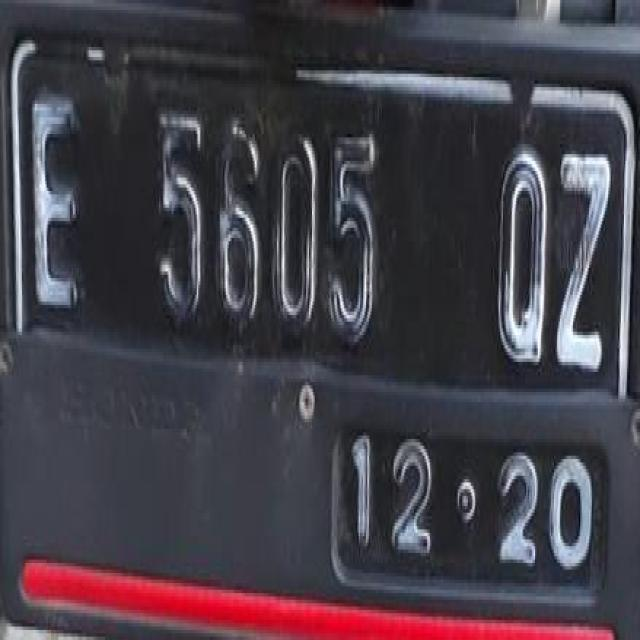0: (267, 99, 323, 347)
5: (323, 97, 386, 359), (147, 82, 203, 347)
6: (210, 97, 267, 352)
E: (24, 76, 90, 318)
Q: (491, 136, 551, 387)
Z: (550, 130, 614, 386)
